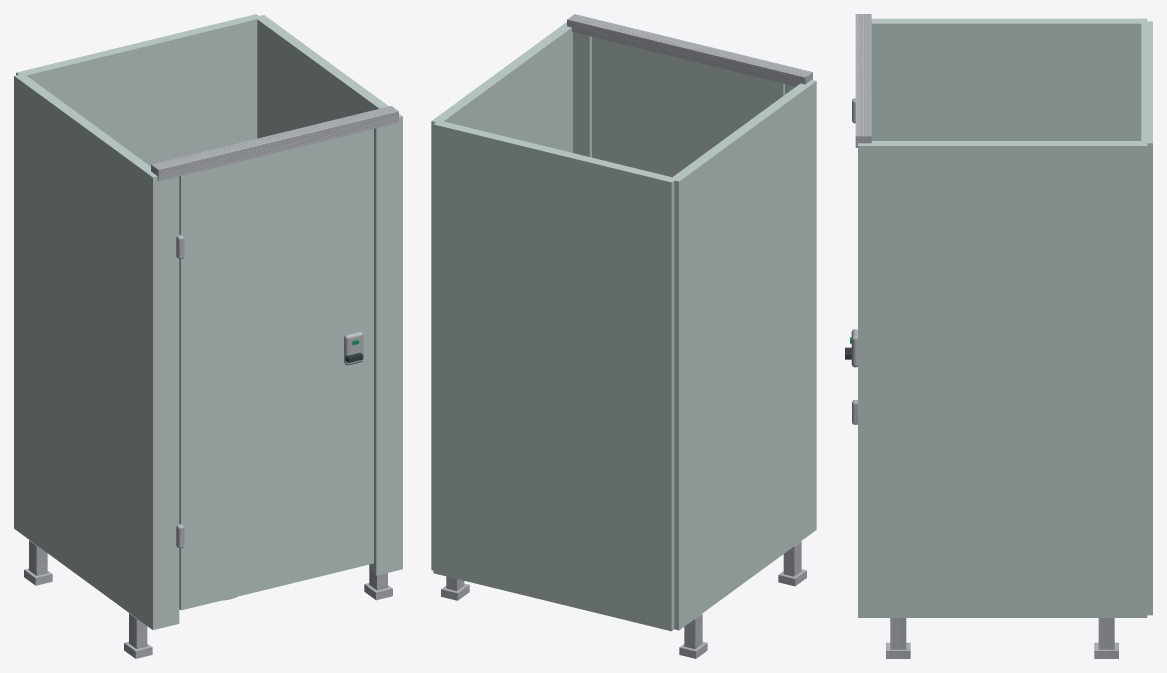
File: cubicle.glb
The picture shows the model from 3 angles, left to right: view 1: azimuth 30°, elevation 25°; view 2: azimuth 150°, elevation 25°; view 3: azimuth 270°, elevation 25°; orthographic projection. The views are drawn at different scales.
Parts seen in each view (by area): view 1: cubicle-partition (×3), cubicle-door, cubicle-jamb (×2), cubicle-header, Cubicle, passenger-swing-door; view 2: cubicle-partition (×3), cubicle-door, cubicle-header, cubicle-jamb, Cubicle; view 3: cubicle-partition (×3), cubicle-header, Cubicle, passenger-swing-door.
Part boxes in pixels (x1,y1,x2,y2): cubicle-partition (×3): (14, 14, 402, 629); cubicle-door: (179, 129, 373, 610); cubicle-jamb (×2): (162, 124, 393, 627); cubicle-header: (151, 106, 398, 181); Cubicle: (24, 540, 392, 658); passenger-swing-door: (176, 234, 363, 548); cubicle-partition (×3): (431, 22, 816, 631); cubicle-door: (592, 37, 784, 177); cubicle-header: (567, 14, 812, 86); cubicle-jamb: (573, 32, 591, 157); Cubicle: (441, 541, 806, 658); cubicle-partition (×3): (858, 18, 1152, 617); cubicle-header: (855, 14, 871, 147); Cubicle: (886, 618, 1118, 658); passenger-swing-door: (845, 98, 857, 424).
Size of the model in its own units: 1.07 by 1.98 by 1.06.
Materials: 7 (1 with a texture image).
